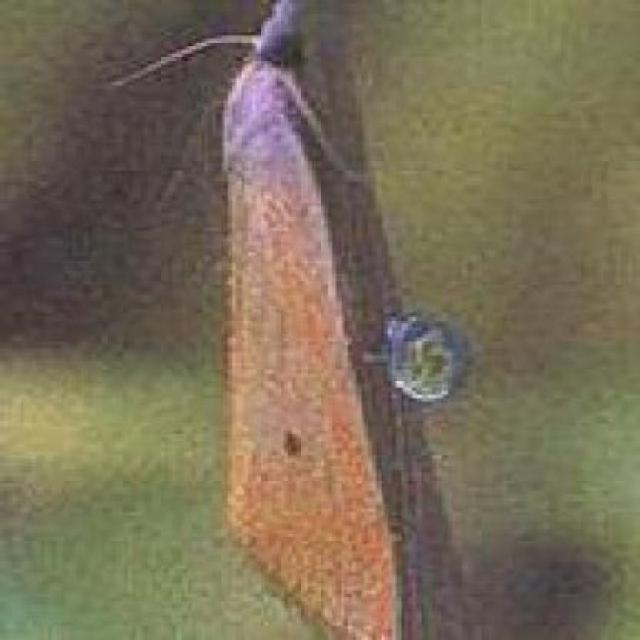stem-borer: (202, 0, 386, 640)
